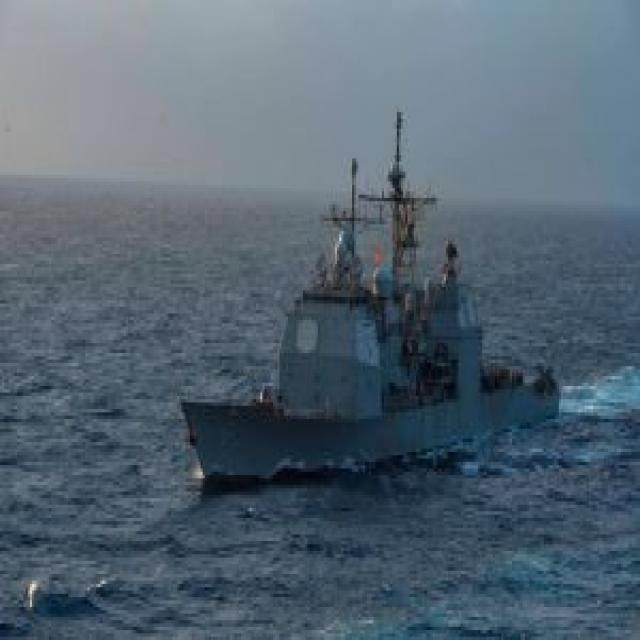navalvessels: (169, 136, 567, 506)
